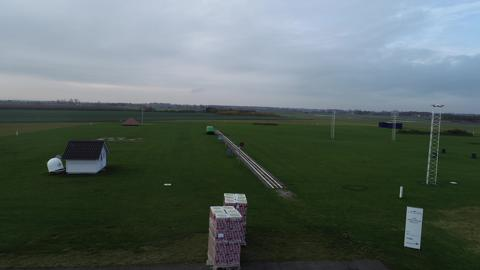RockwoolPallet: (222, 189, 247, 239)
